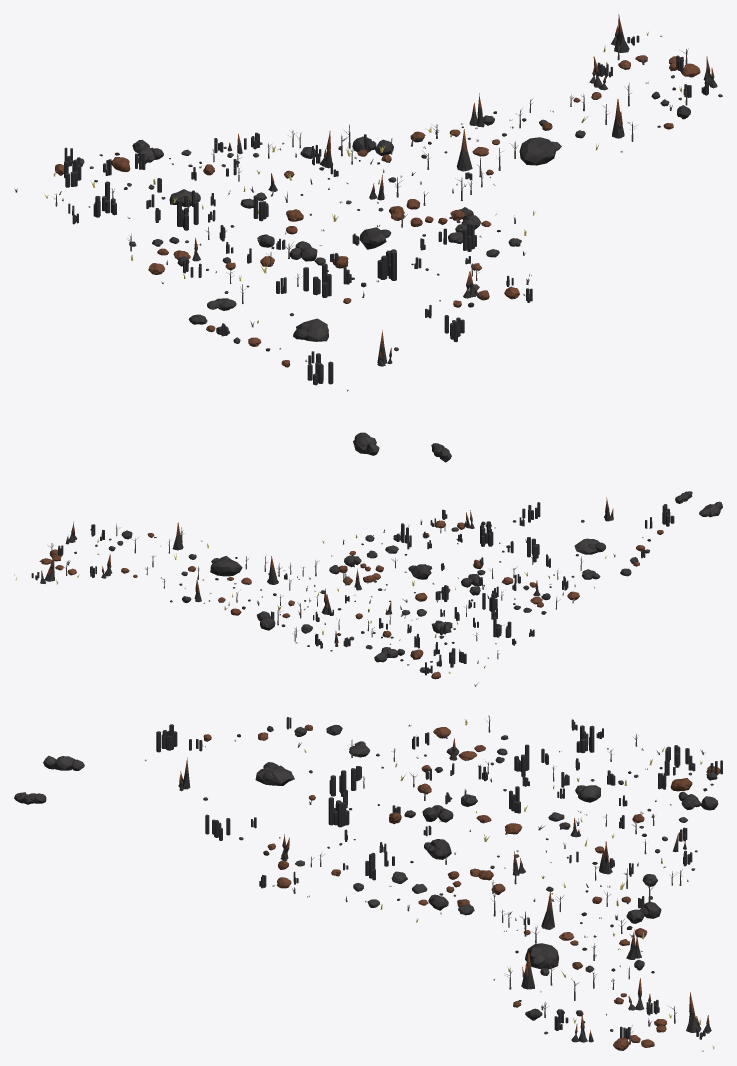
The model's file is ash_land_scatter_c15_29.glb.
The picture shows the model from 3 angles, top to bottom: view 1: azimuth 30°, elevation 25°; view 2: azimuth 150°, elevation 25°; view 3: azimuth 270°, elevation 25°; orthographic projection. The views are drawn at different scales.
Parts seen in each view (by area): view 1: ash_land_scatter_c15_29; view 2: ash_land_scatter_c15_29; view 3: ash_land_scatter_c15_29.
Part boxes in pixels (<box>): ash_land_scatter_c15_29: <box>14,14,722,462</box>; ash_land_scatter_c15_29: <box>14,491,722,686</box>; ash_land_scatter_c15_29: <box>14,715,722,1051</box>.
Bounding box in the file's own units: 255 × 23.74 × 250.
